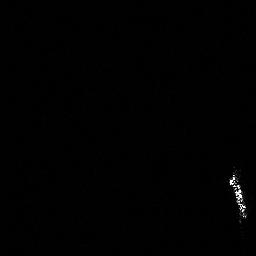ship: (226, 165, 248, 224)
